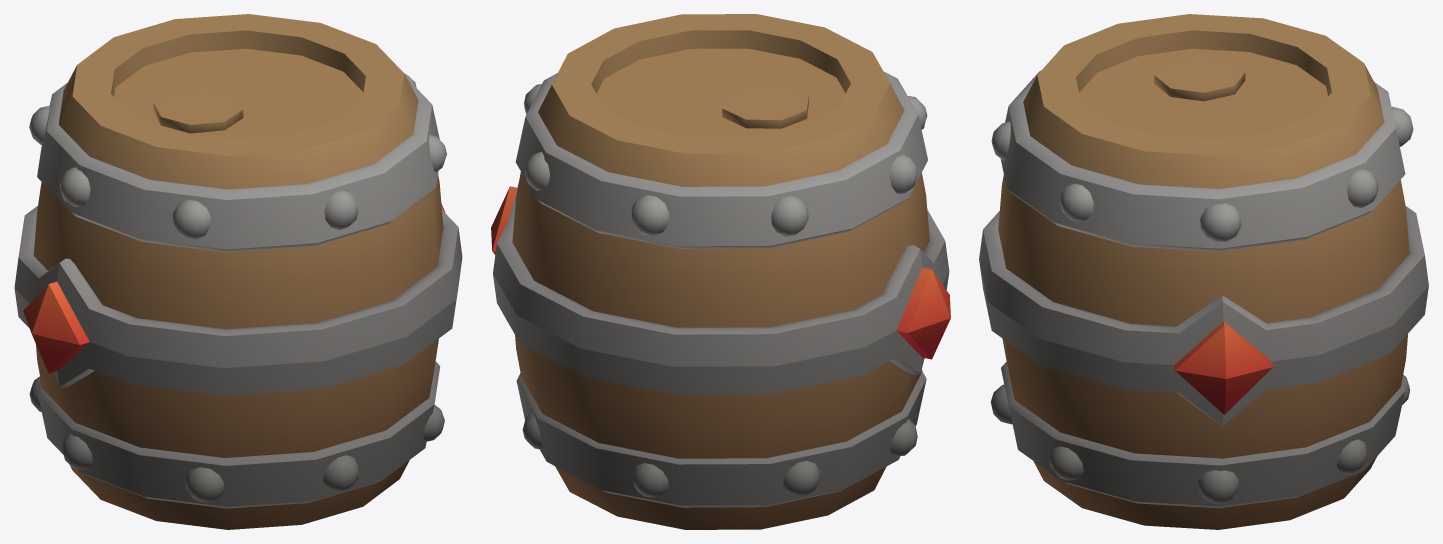
Rendered from dungeonkit_decor_barrel.fbx.
3 views of the same model, side by side, from view 1: azimuth 30°, elevation 25°; view 2: azimuth 150°, elevation 25°; view 3: azimuth 270°, elevation 25° (orthographic).
Visible parts, largest first — view 1: Cylinder.002; view 2: Cylinder.002; view 3: Cylinder.002.
Part boxes in pixels (x1,y1,x2,y2): Cylinder.002: (14, 14, 462, 529); Cylinder.002: (491, 14, 950, 529); Cylinder.002: (979, 14, 1428, 529).
Bounding box in the file's own units: 163 × 134 × 146.
